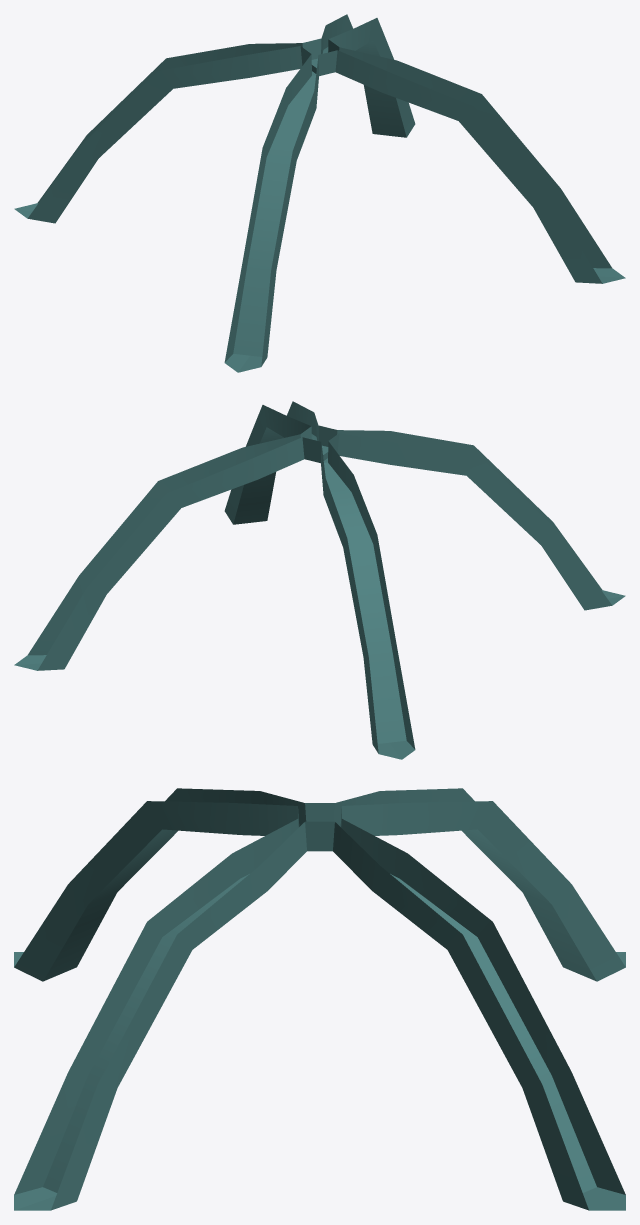
The model's file is OpenTop_4Sided.fbx.
The picture shows the model from 3 angles, top to bottom: view 1: azimuth 30°, elevation 25°; view 2: azimuth 150°, elevation 25°; view 3: azimuth 270°, elevation 25°; orthographic projection. The views are drawn at different scales.
Parts seen in each view (by area): view 1: OpenTop_4Sided; view 2: OpenTop_4Sided; view 3: OpenTop_4Sided.
Part boxes in pixels (x1,y1,x2,y2): OpenTop_4Sided: [14, 14, 625, 372]; OpenTop_4Sided: [14, 401, 625, 759]; OpenTop_4Sided: [14, 788, 625, 1210].
Size of the model in its own units: 400 by 196 by 400.
